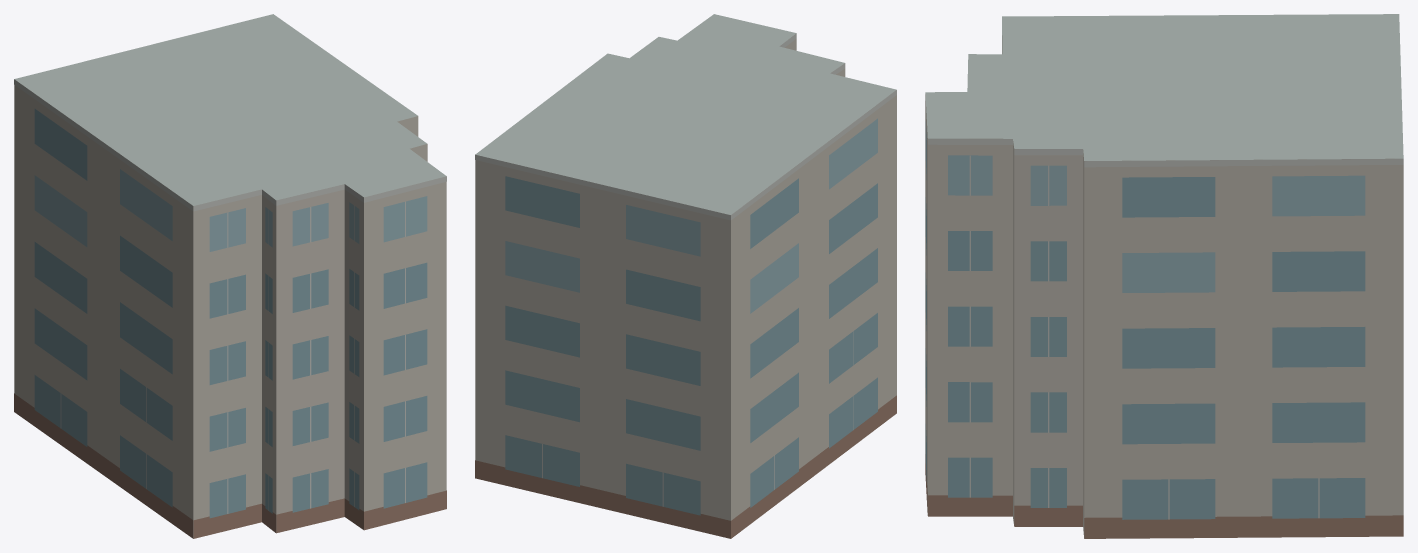
File: survey-upis-32953560.glb
3 views of the same model, side by side, from view 1: azimuth 30°, elevation 25°; view 2: azimuth 150°, elevation 25°; view 3: azimuth 270°, elevation 25° (orthographic). The views are drawn at different scales.
Visible parts, largest first — view 1: survey-upis-32953560.tmp; view 2: survey-upis-32953560.tmp; view 3: survey-upis-32953560.tmp.
Boxes of the visible parts, left/top/right/bottom form: survey-upis-32953560.tmp: left=14, top=14, right=446, bottom=538; survey-upis-32953560.tmp: left=475, top=14, right=896, bottom=538; survey-upis-32953560.tmp: left=925, top=14, right=1403, bottom=538.
Bounding box in the file's own units: 12.49 × 14.95 × 17.16.
